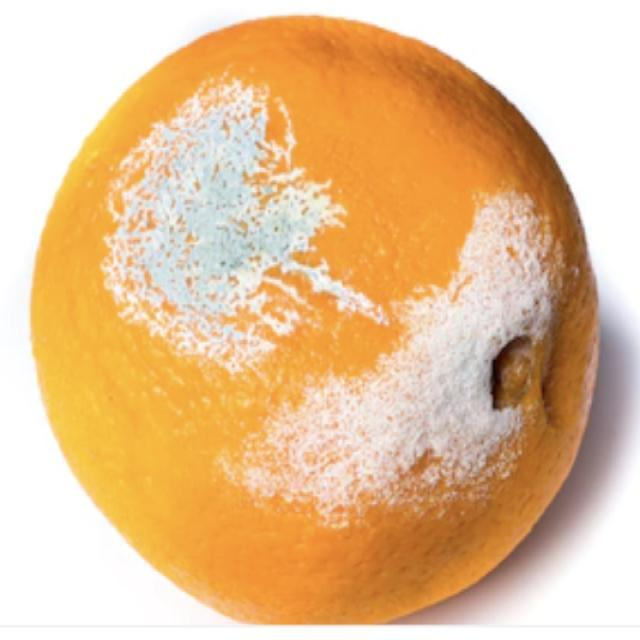sedikit-busuk: (245, 197, 550, 518), (103, 80, 386, 371)
